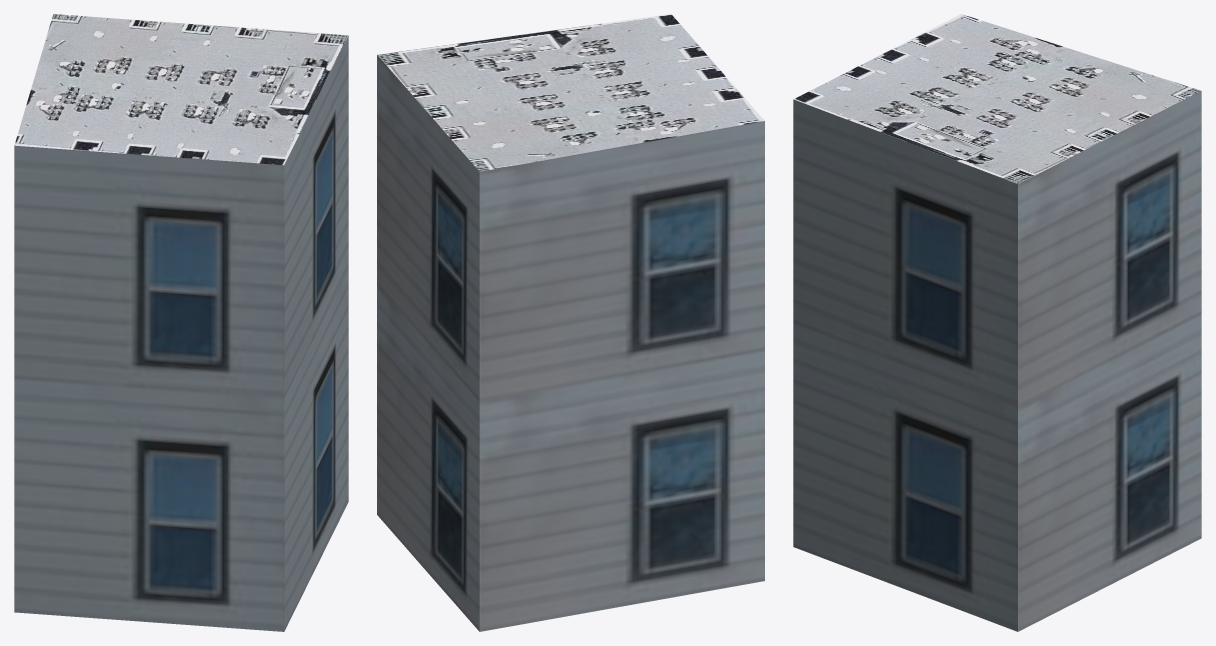
File: ResTex__302.fbx
3 renders of one model, left to right at view 1: azimuth 30°, elevation 25°; view 2: azimuth 150°, elevation 25°; view 3: azimuth 270°, elevation 25°, orthographic. The views are drawn at different scales.
Visible parts, largest first — view 1: CityEngineMaterial_18_m, CityEngineMaterial_8_m; view 2: CityEngineMaterial_18_m, CityEngineMaterial_8_m; view 3: CityEngineMaterial_18_m, CityEngineMaterial_8_m.
Part boxes in pixels (x1,y1,x2,y2): CityEngineMaterial_18_m: (14,36,348,631); CityEngineMaterial_8_m: (14,14,348,165); CityEngineMaterial_18_m: (377,55,764,631); CityEngineMaterial_8_m: (377,14,764,171); CityEngineMaterial_18_m: (793,91,1201,631); CityEngineMaterial_8_m: (794,14,1201,183).
Size of the model in its own units: 4.89 by 6 by 4.96.
2 materials, 2 textured.
